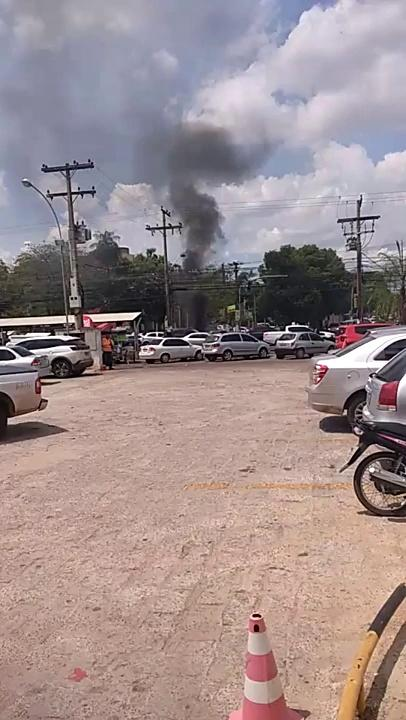Smoke: (157, 109, 251, 326)
